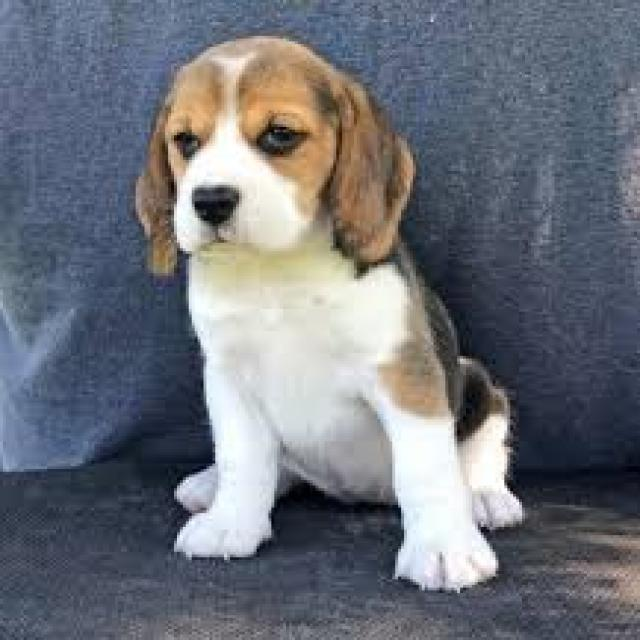Dog: (121, 33, 530, 595)
